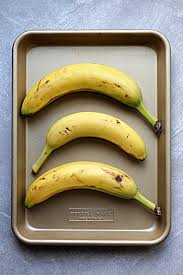fresh_banana: (20, 64, 162, 133), (24, 161, 163, 218), (30, 112, 146, 172)
